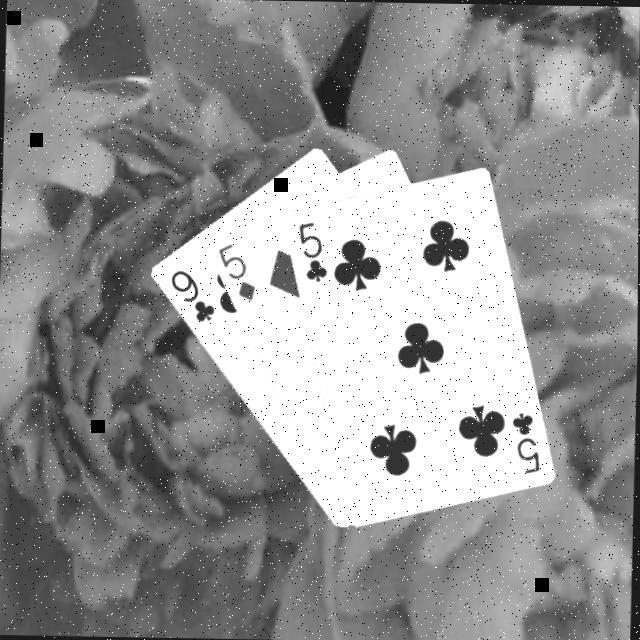5C: (505, 405, 542, 474), (291, 216, 328, 283)
5D: (210, 237, 256, 302)
9C: (164, 264, 217, 324)
